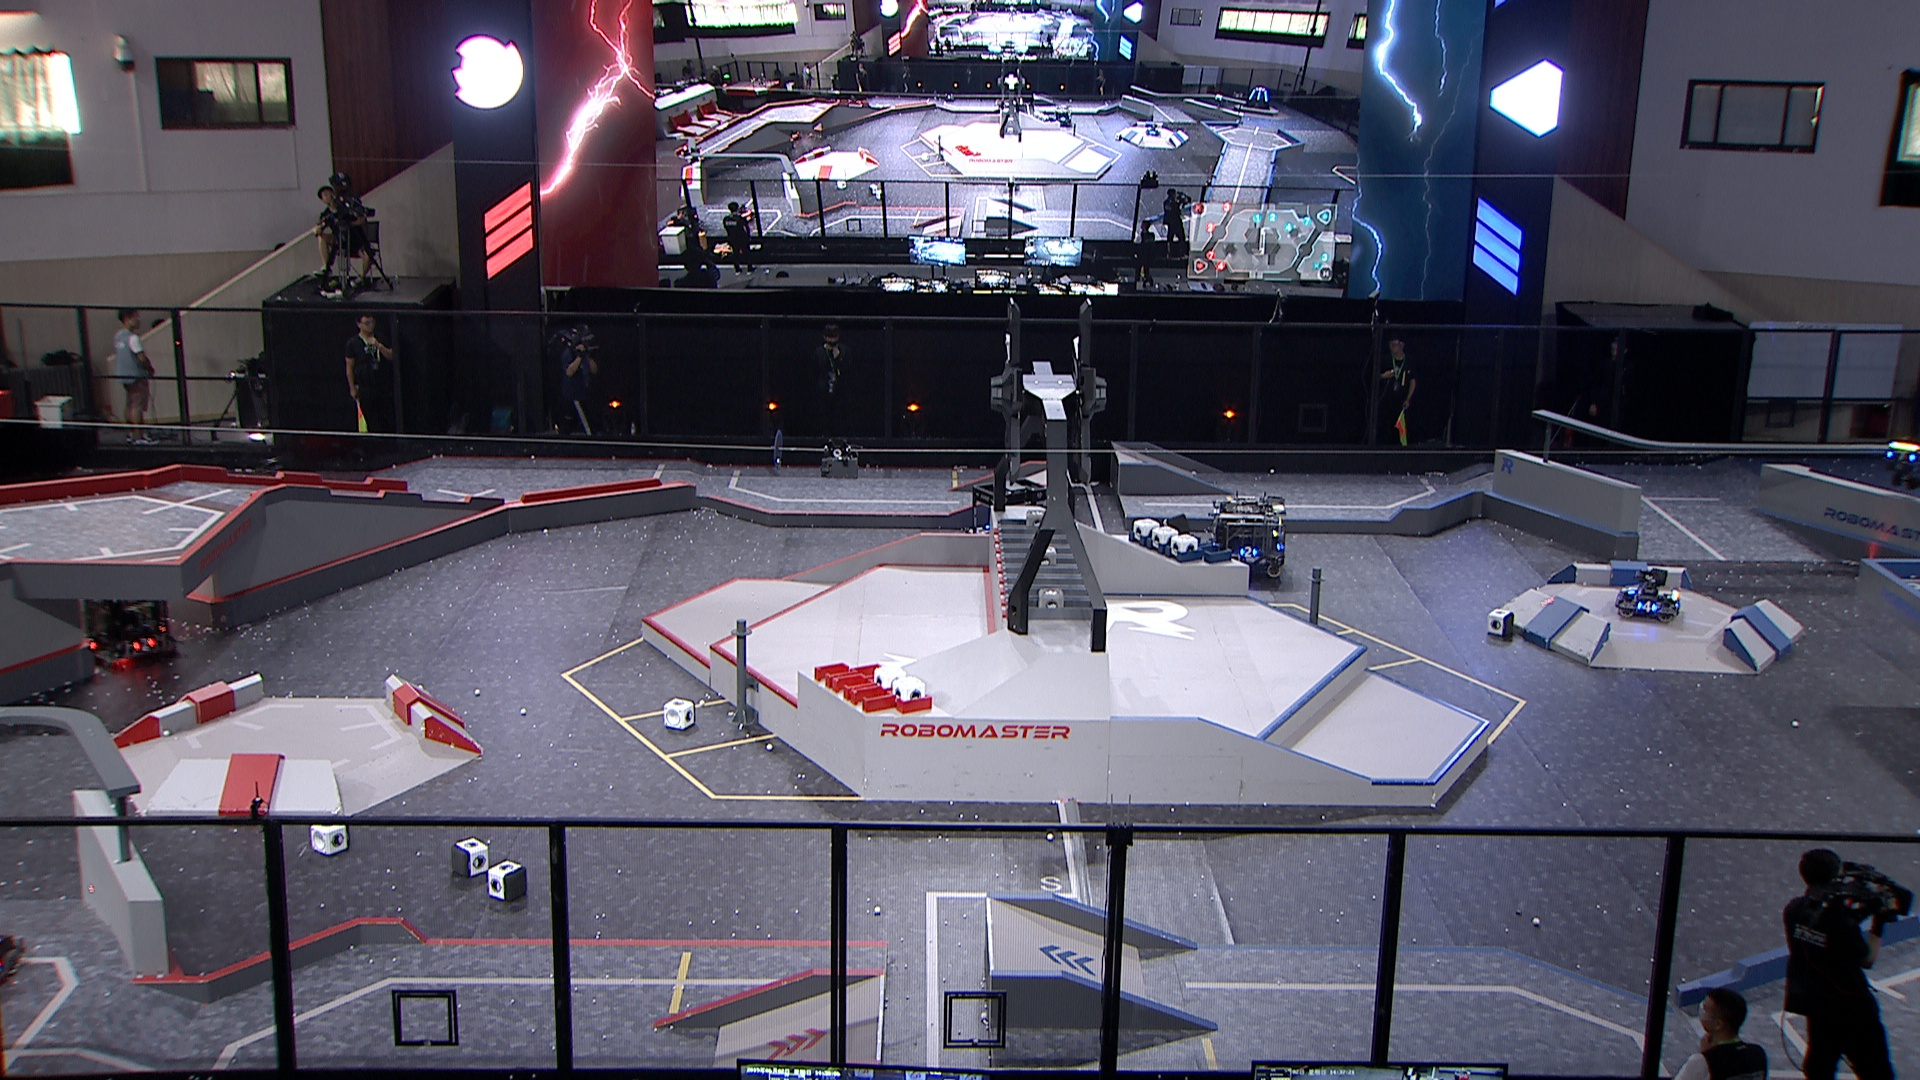armor: (131, 636, 160, 655), (1887, 450, 1917, 463), (1636, 597, 1659, 615), (1238, 545, 1261, 560), (1626, 583, 1640, 597)
car: (73, 567, 183, 670), (963, 477, 1054, 562), (1211, 493, 1290, 579), (1613, 566, 1681, 624)
ignore: (666, 204, 700, 232), (1244, 86, 1271, 112), (674, 146, 699, 164), (1054, 109, 1073, 129), (736, 204, 756, 222), (787, 128, 802, 142), (1145, 124, 1160, 136), (1215, 94, 1225, 109)
watcher: (1884, 439, 1920, 493)
